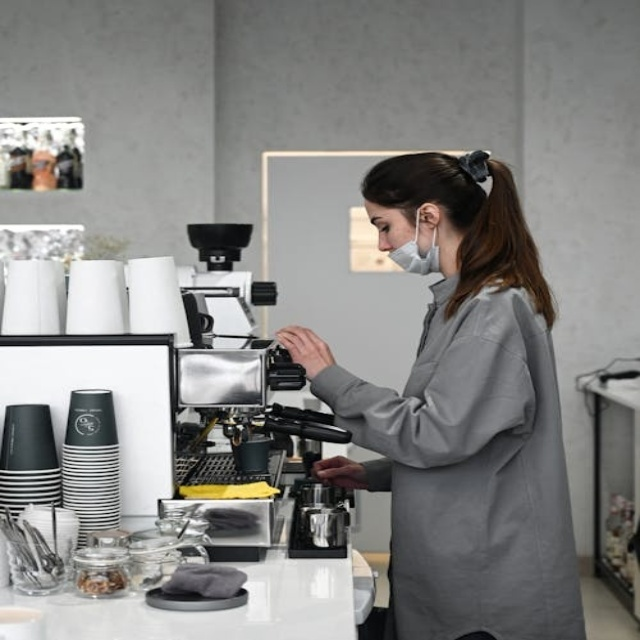Mascara: (387, 208, 442, 276)
Sin_gafas: (367, 211, 404, 233)
Sin_guantes: (274, 324, 334, 376), (309, 454, 366, 489)
